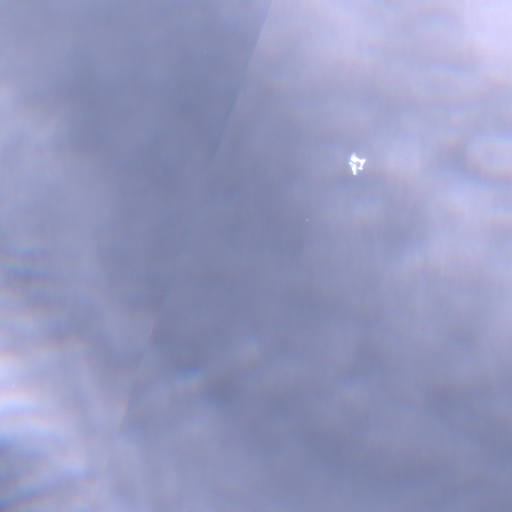Iceberg: (349, 152, 366, 174), (306, 219, 307, 220)
